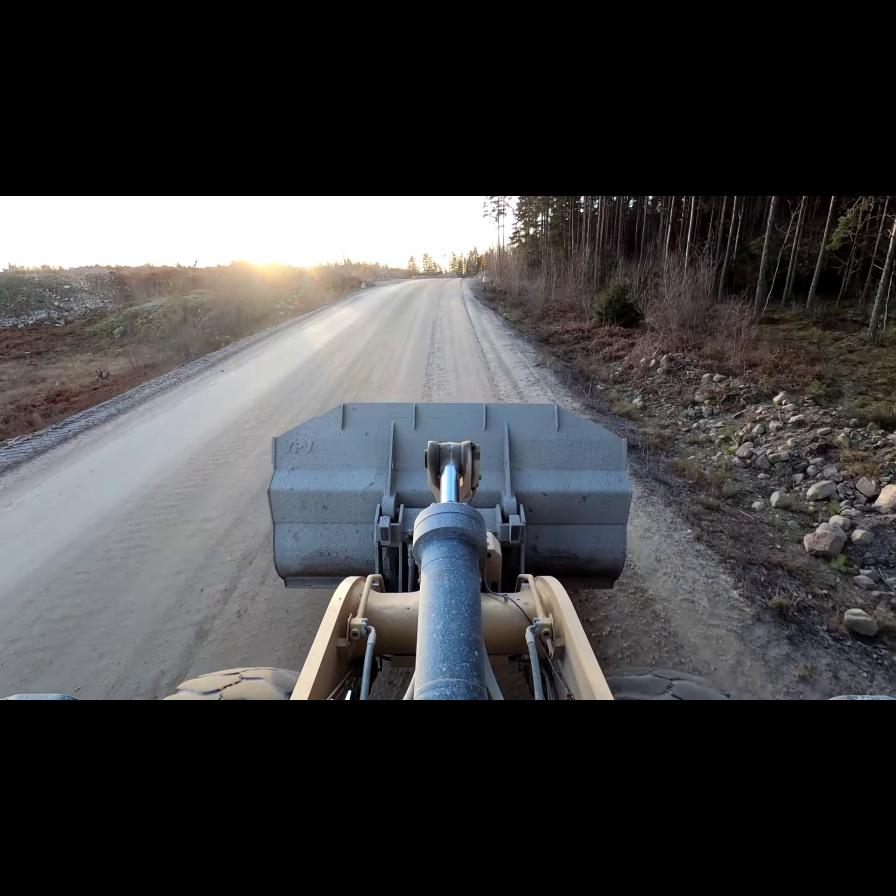anchor: (424, 440, 479, 503)
